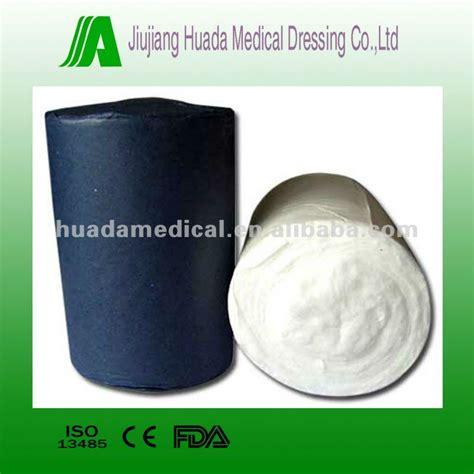cotton: (38, 91, 438, 408)
